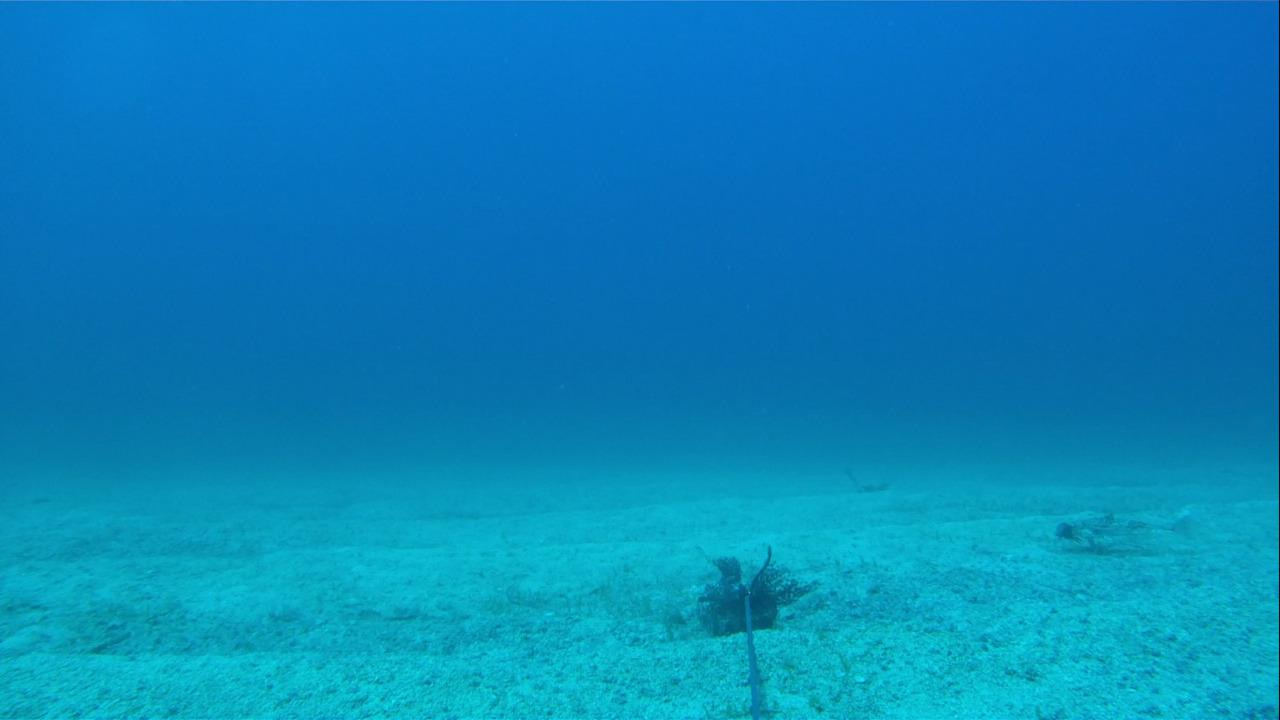dactylopterus: (1048, 502, 1199, 556)
